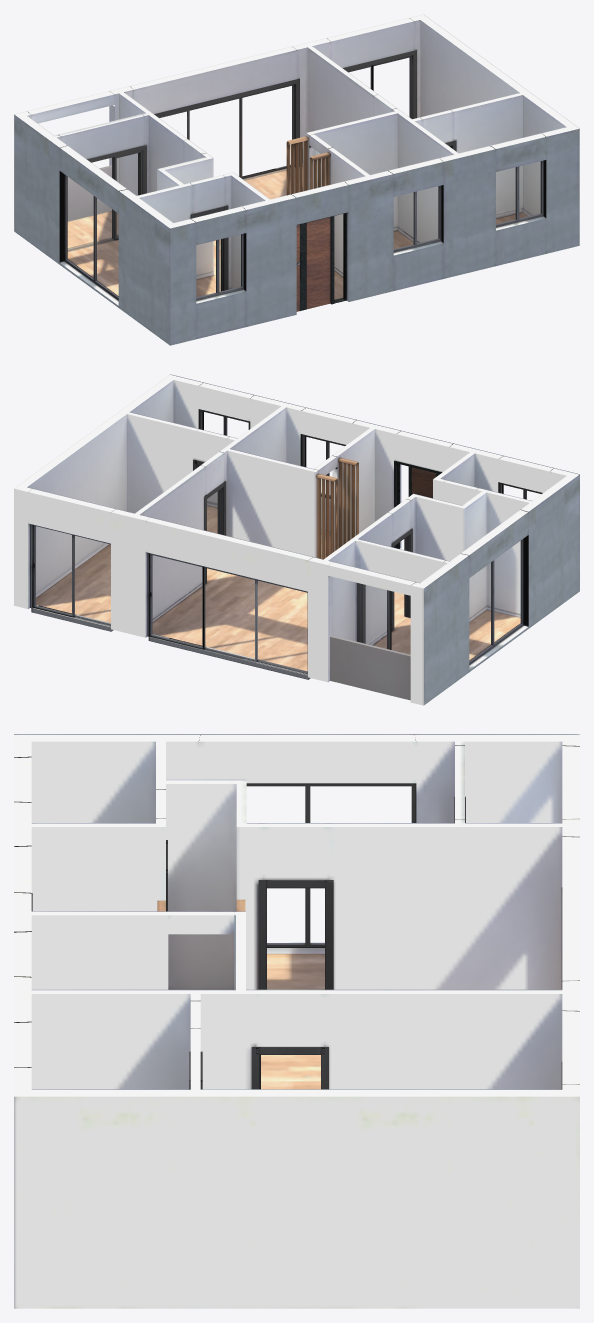
Rendered from TeRaki-05.glb.
3 renders of one model, top to bottom at view 1: azimuth 30°, elevation 25°; view 2: azimuth 150°, elevation 25°; view 3: azimuth 270°, elevation 25°, orthographic. The views are drawn at different scales.
Parts seen in each view (by area): view 1: Apartment.001, openings, DS_PI_PartitionWall_0_Floor_0, Cube, DS_PI_PartitionWall_1_Floor_0; view 2: Apartment.001, openings, Cube, DS_PI_PartitionWall_0_Floor_0, DS_PI_PartitionWall_1_Floor_0; view 3: Apartment.001, openings.
Boxes of the visible parts, box(x1,y1,x2,y2) form: Apartment.001: box(14, 14, 579, 345); openings: box(64, 50, 543, 311); DS_PI_PartitionWall_0_Floor_0: box(286, 136, 311, 195); Cube: box(67, 165, 111, 221); DS_PI_PartitionWall_1_Floor_0: box(309, 152, 330, 189); Apartment.001: box(14, 374, 579, 705); openings: box(30, 409, 542, 679); Cube: box(330, 635, 410, 700); DS_PI_PartitionWall_0_Floor_0: box(316, 473, 338, 559); DS_PI_PartitionWall_1_Floor_0: box(335, 457, 358, 547); Apartment.001: box(14, 734, 579, 1308); openings: box(31, 783, 562, 1089).
Size of the model in its own units: 10.26 by 2.9 by 6.77.
Materials: 3 (3 with a texture image).
